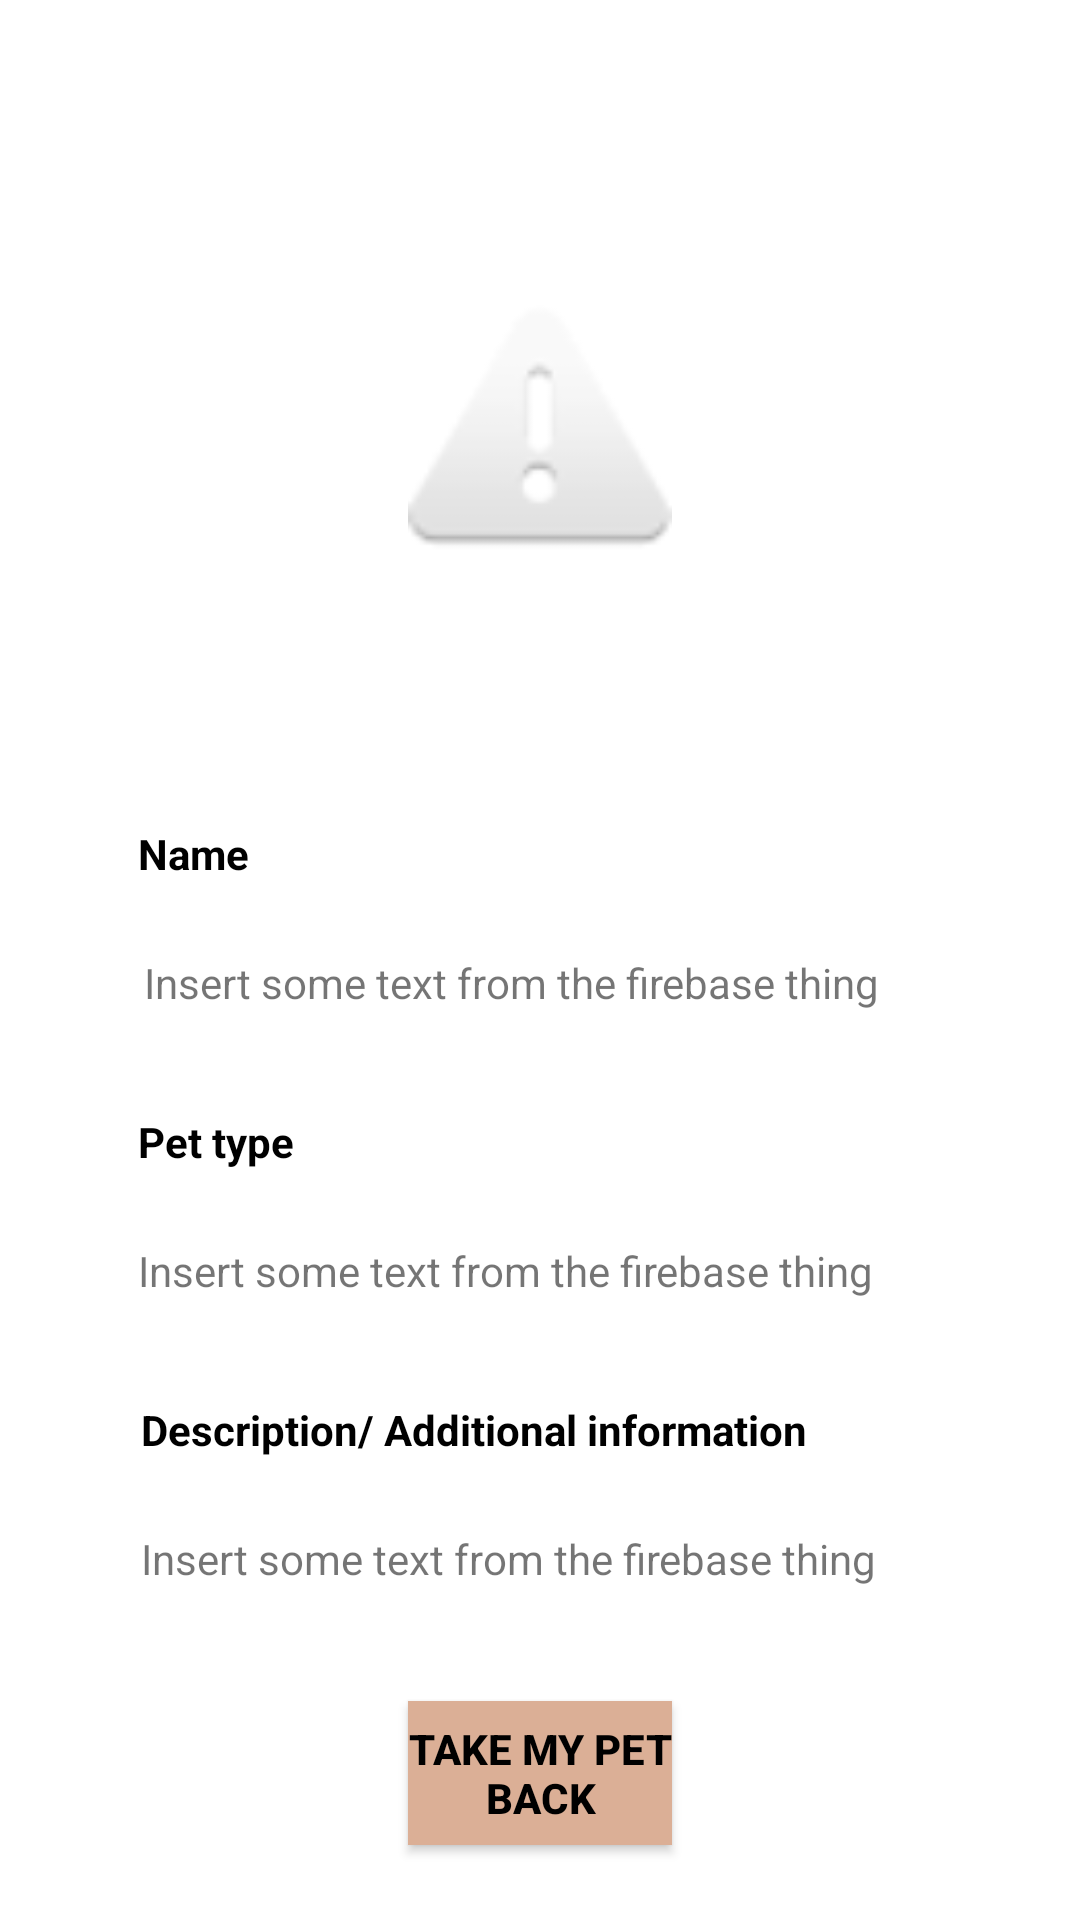

Screen size 1080 × 1920. Icon name, then its box in pixels as Rect(x1, y1, x2, y2):
alert: Rect(408, 366, 672, 544)
